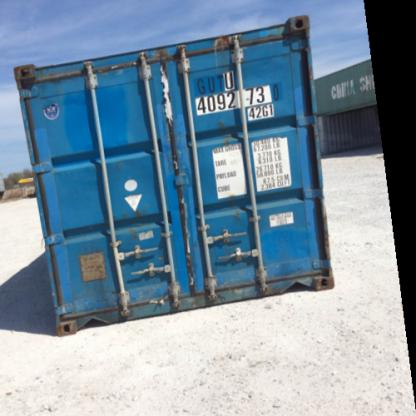Damage: (15, 62, 96, 93), (154, 63, 184, 137), (210, 270, 268, 295), (118, 280, 172, 306), (212, 29, 248, 66), (280, 265, 340, 287), (51, 304, 97, 330), (106, 59, 150, 75)
